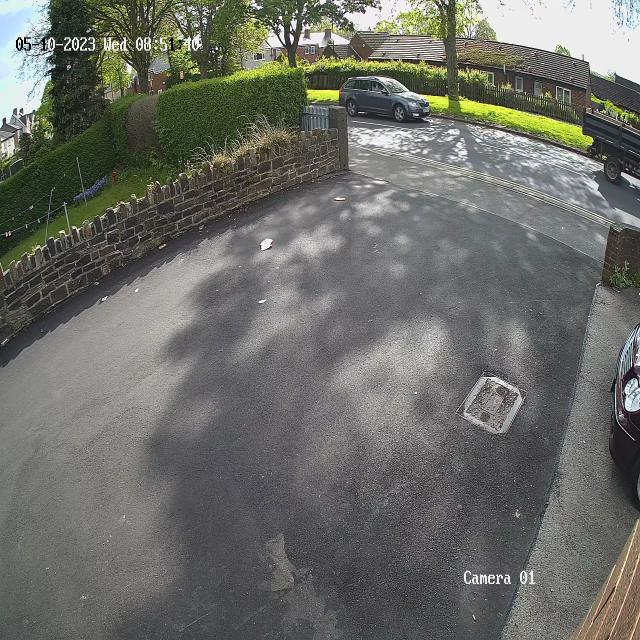vehicle: (332, 70, 436, 135)
